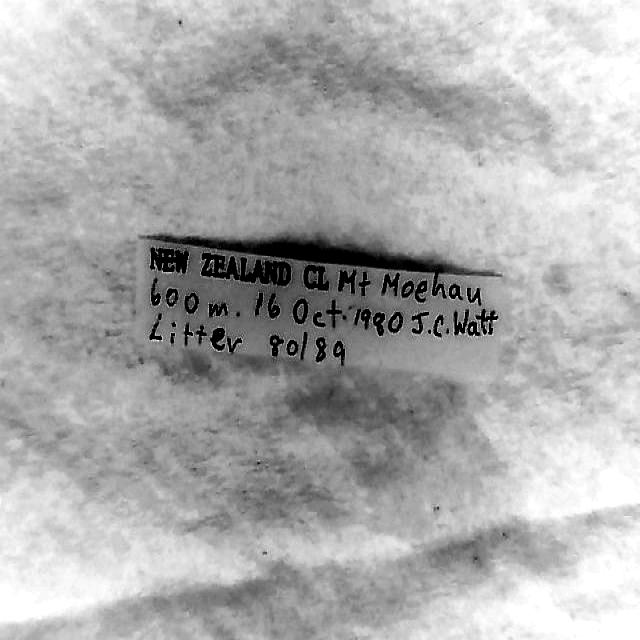mixed_label: (138, 237, 502, 376)
